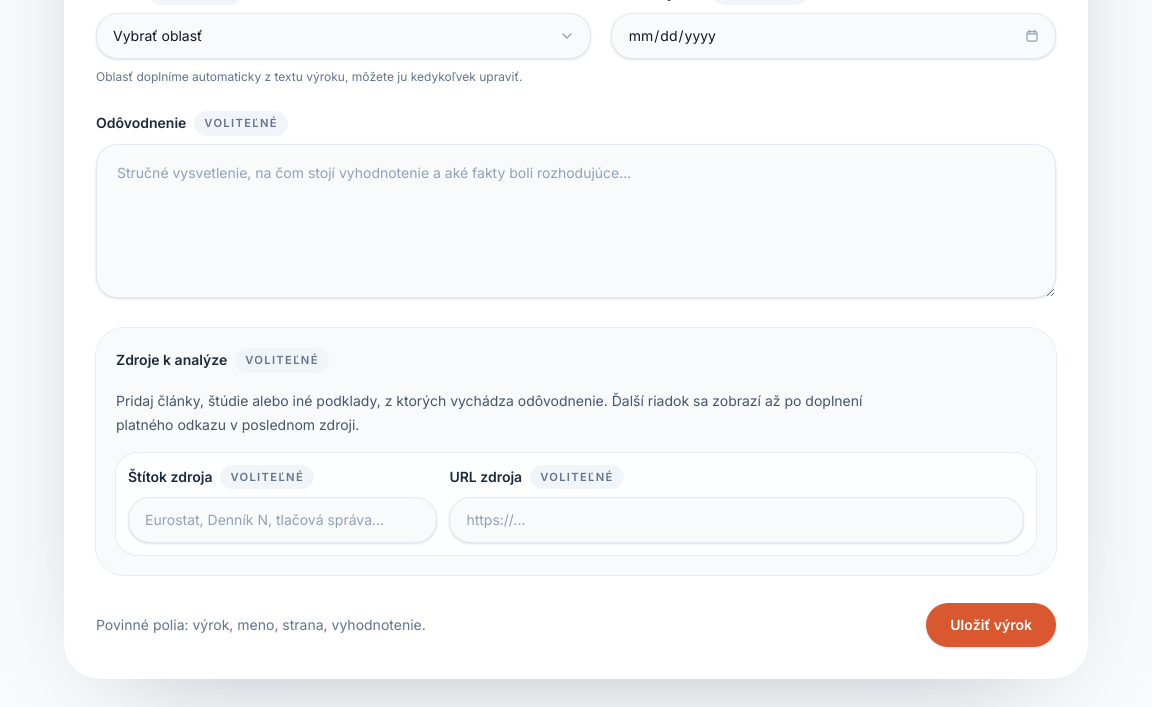
add page oblast auto-detect › normalizes valid source URLs and flags malformed ones inline
(page scrolled)
In the field labelled "Štítok zdroja": x=283, y=520 [128,497,437,543], type "Denník N"
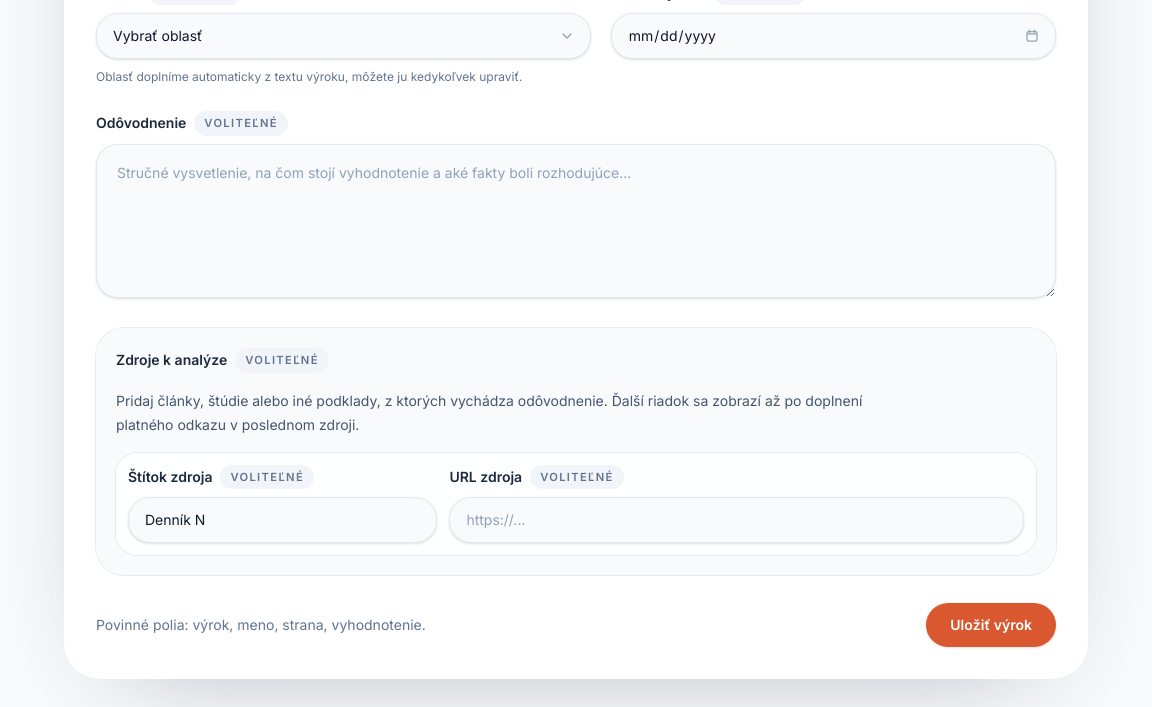
In the field labelled "URL zdroja": x=737, y=520 [449,497,1024,543], type "dennikn.sk/clanok"
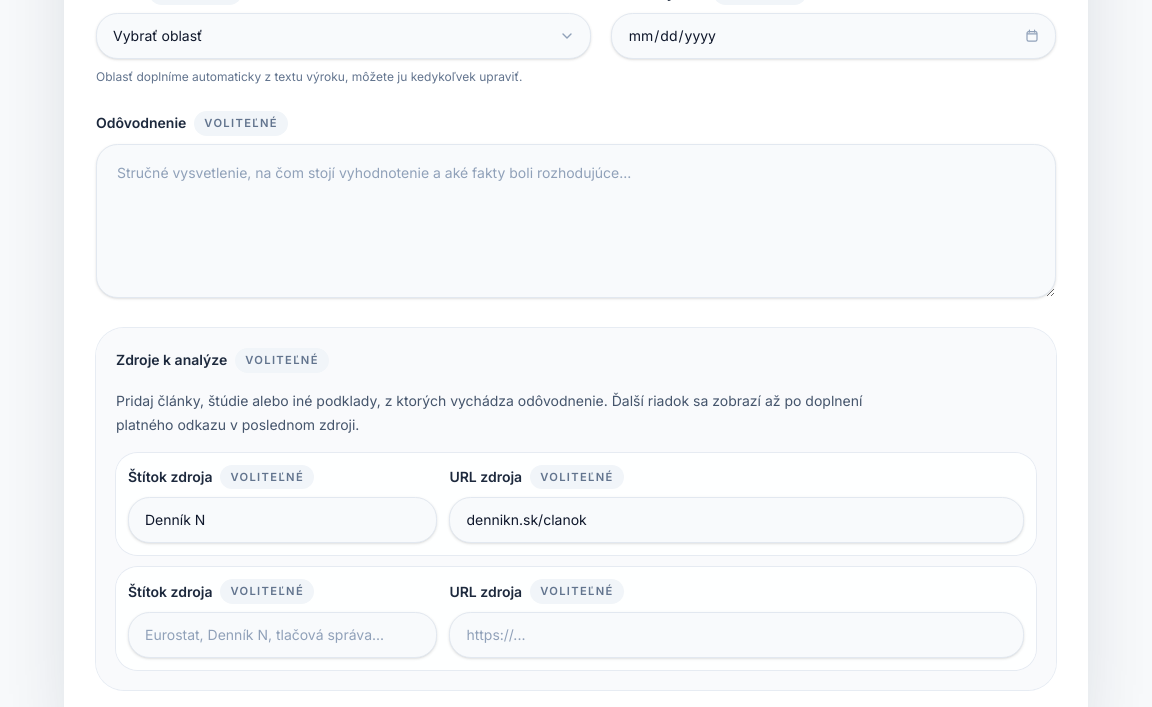
Now the number of fields labelled "URL zdroja" is 2
Leave the 1st field labelled "URL zdroja", box [449,497,1024,543]
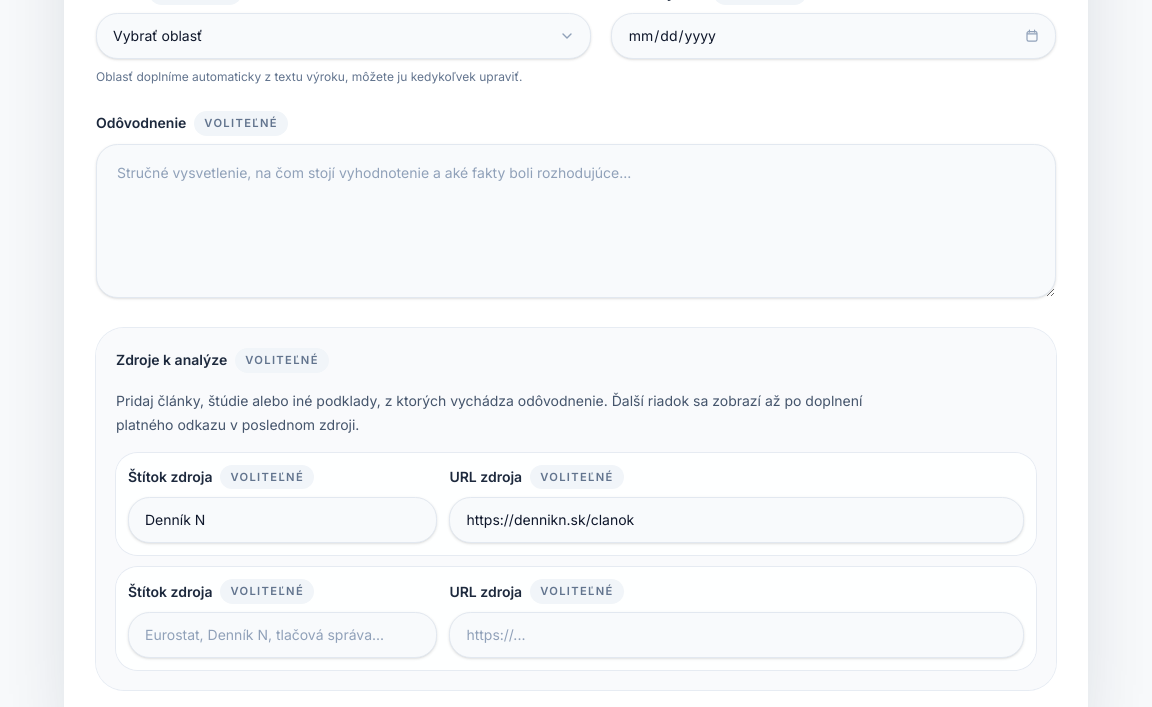
Now the 1st field labelled "URL zdroja" holds "https://dennikn.sk/clanok", box [449,497,1024,543]
In the 2nd field labelled "URL zdroja": x=737, y=635 [449,612,1024,658], type "notaurl"
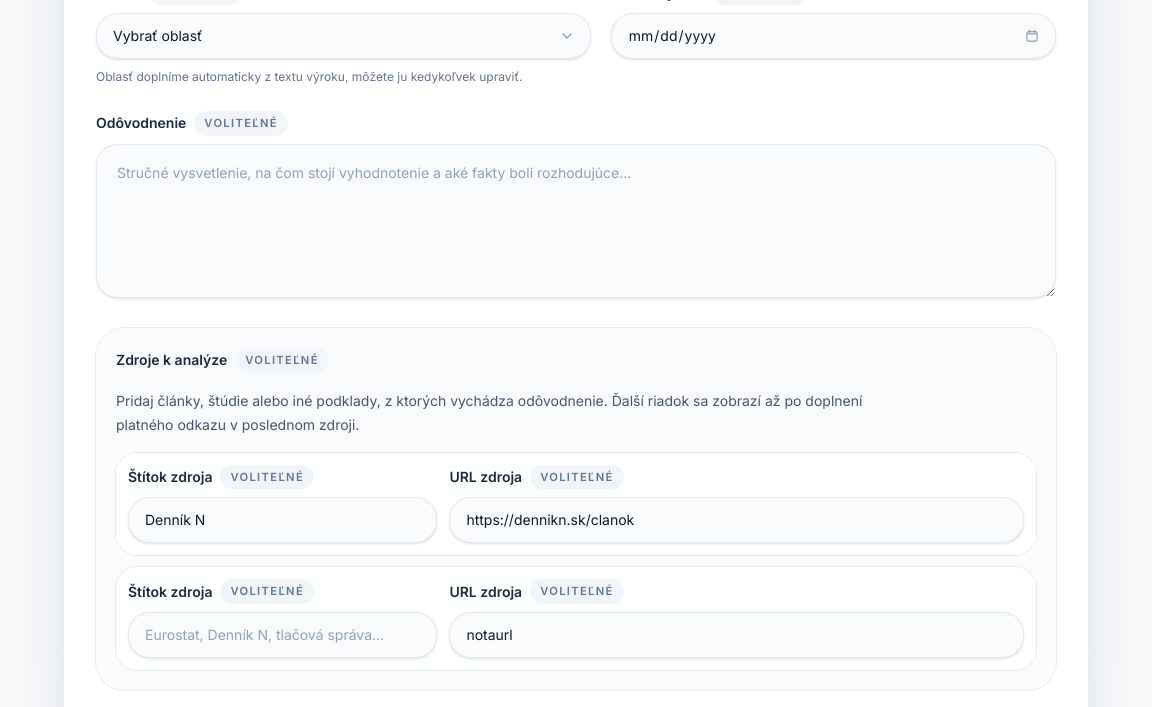
Leave the 2nd field labelled "URL zdroja", box [449,612,1024,658]
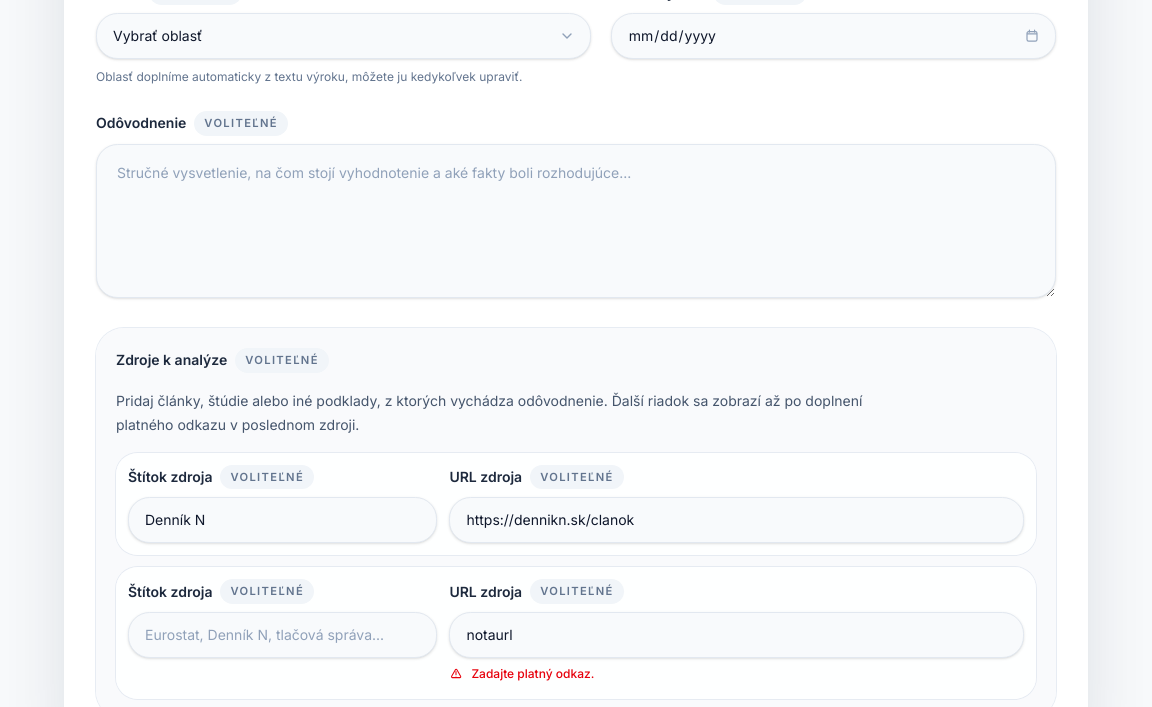
Now the text "Zadajte platný odkaz." is shown, box [471,666,594,682]
